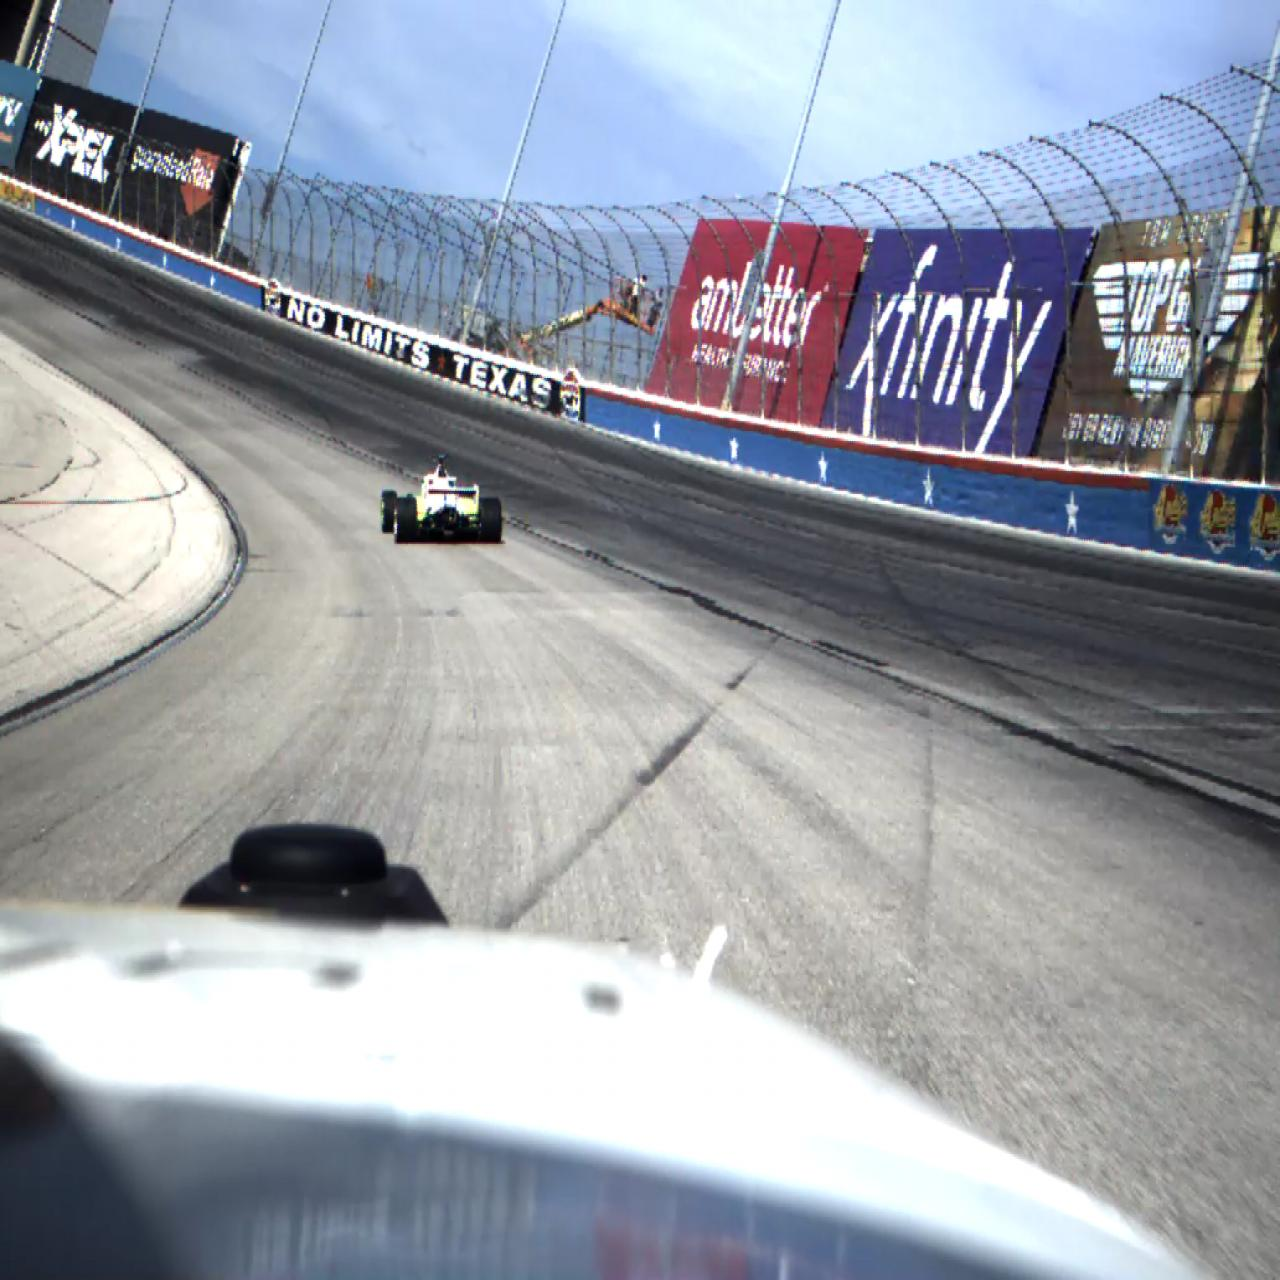AV: (381, 454, 502, 545)
Wheel: (395, 497, 416, 545), (481, 498, 502, 543), (381, 490, 397, 535)
